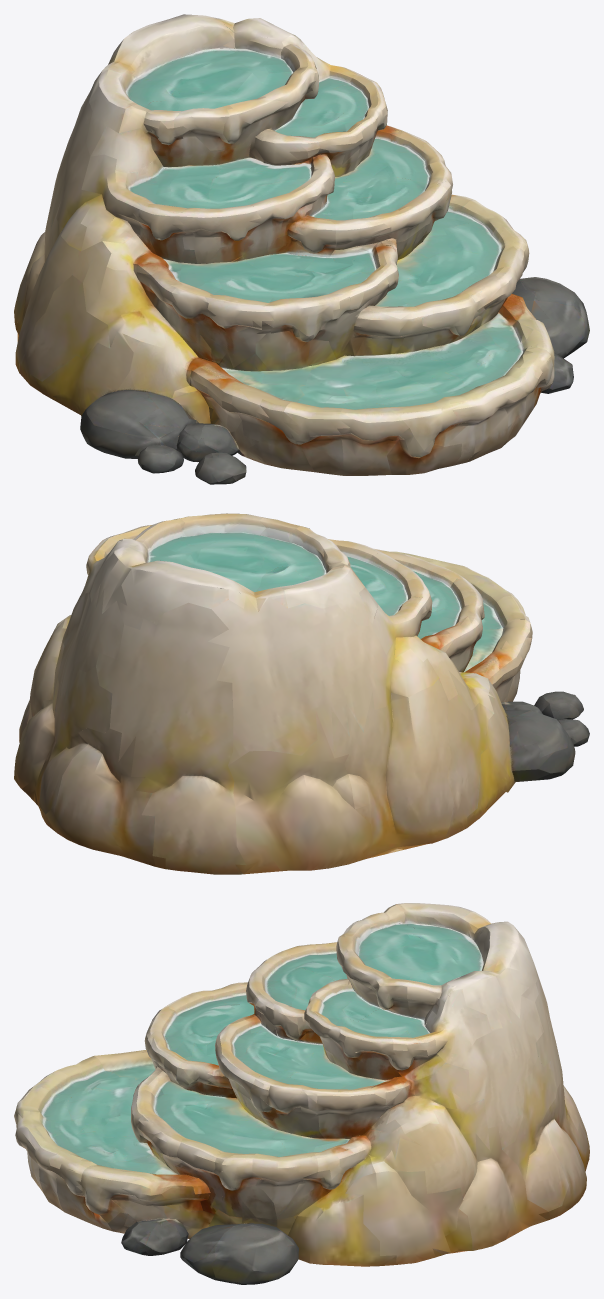
Rendered from east_pools.glb.
3 renders of one model, top to bottom at view 1: azimuth 30°, elevation 25°; view 2: azimuth 150°, elevation 25°; view 3: azimuth 270°, elevation 25°, orthographic. The views are drawn at different scales.
Parts seen in each view (by area): view 1: Mesh_0; view 2: Mesh_0; view 3: Mesh_0.
Part boxes in pixels (box(x1,y1,x2,y2)): Mesh_0: box(14, 14, 589, 484); Mesh_0: box(14, 513, 589, 874); Mesh_0: box(14, 903, 589, 1284).
Size of the model in its own units: 13.58 by 6.7 by 15.
1 material, 1 textured.
